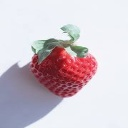strawberry: (29, 34, 100, 98)
